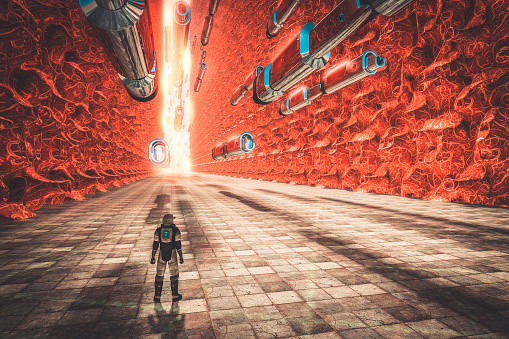em pe: (148, 213, 188, 292)
